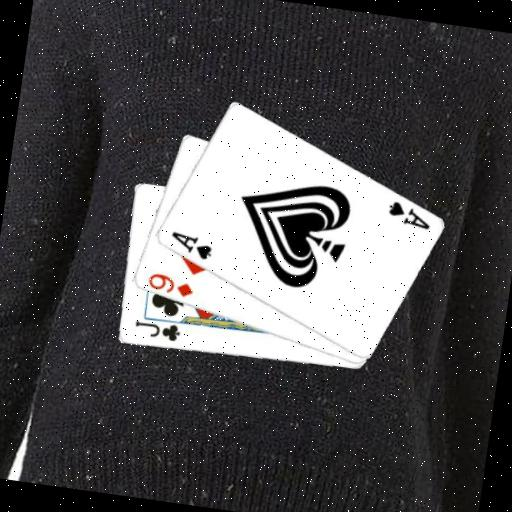9D: (143, 269, 196, 301)
AS: (382, 198, 434, 233), (165, 228, 216, 263)
JC: (129, 317, 182, 345)
